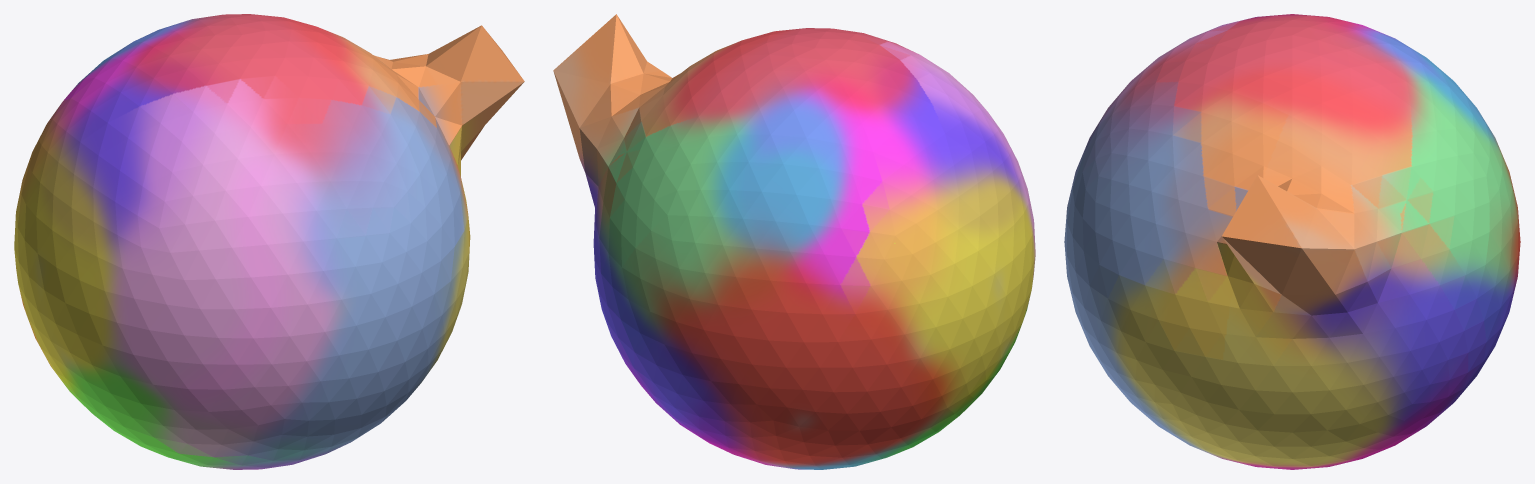
3 renders of one model, left to right at view 1: azimuth 30°, elevation 25°; view 2: azimuth 150°, elevation 25°; view 3: azimuth 270°, elevation 25°, orthographic. The views are drawn at different scales.
Parts seen in each view (by area): view 1: Icosphere; view 2: Icosphere; view 3: Icosphere.
Part boxes in pixels (x1,y1,x2,y2): Icosphere: [14, 14, 524, 469]; Icosphere: [553, 14, 1035, 469]; Icosphere: [1064, 14, 1520, 469].
Bounding box in the file's own units: 2.34 × 2 × 2.
Materials: 1 (1 with a texture image).
